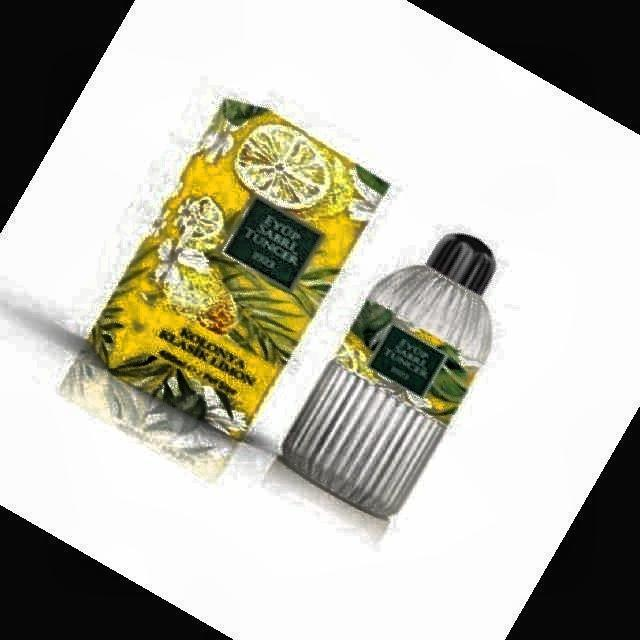cardboard: (89, 100, 388, 438)
plastic: (282, 236, 495, 516)
